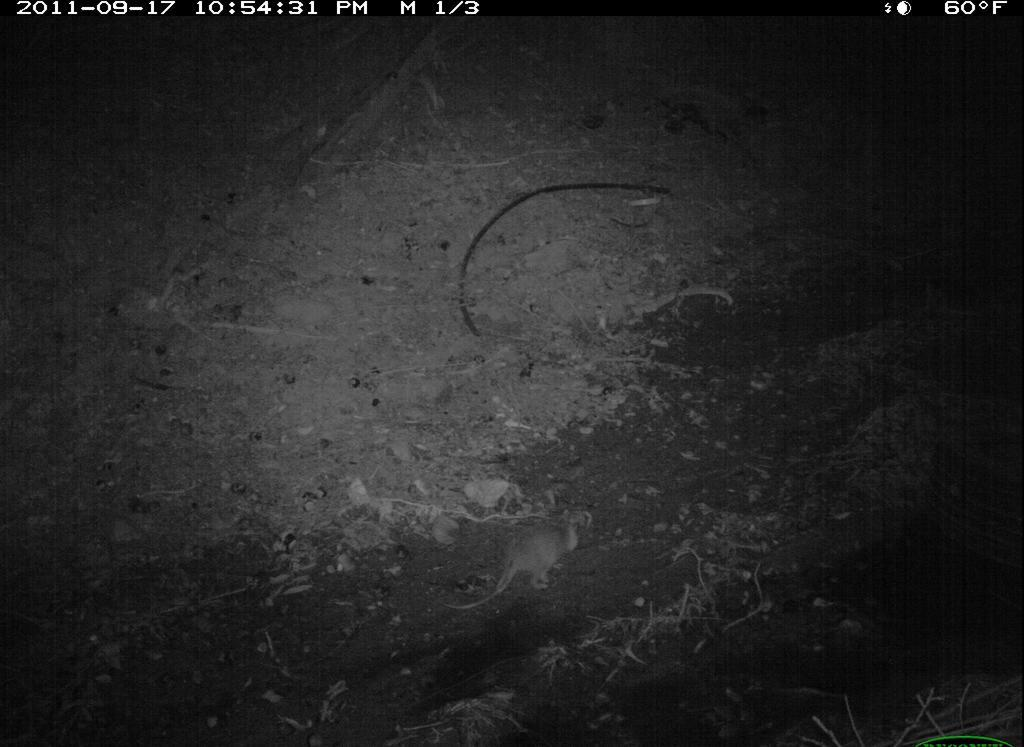opossum: (463, 516, 585, 619)
